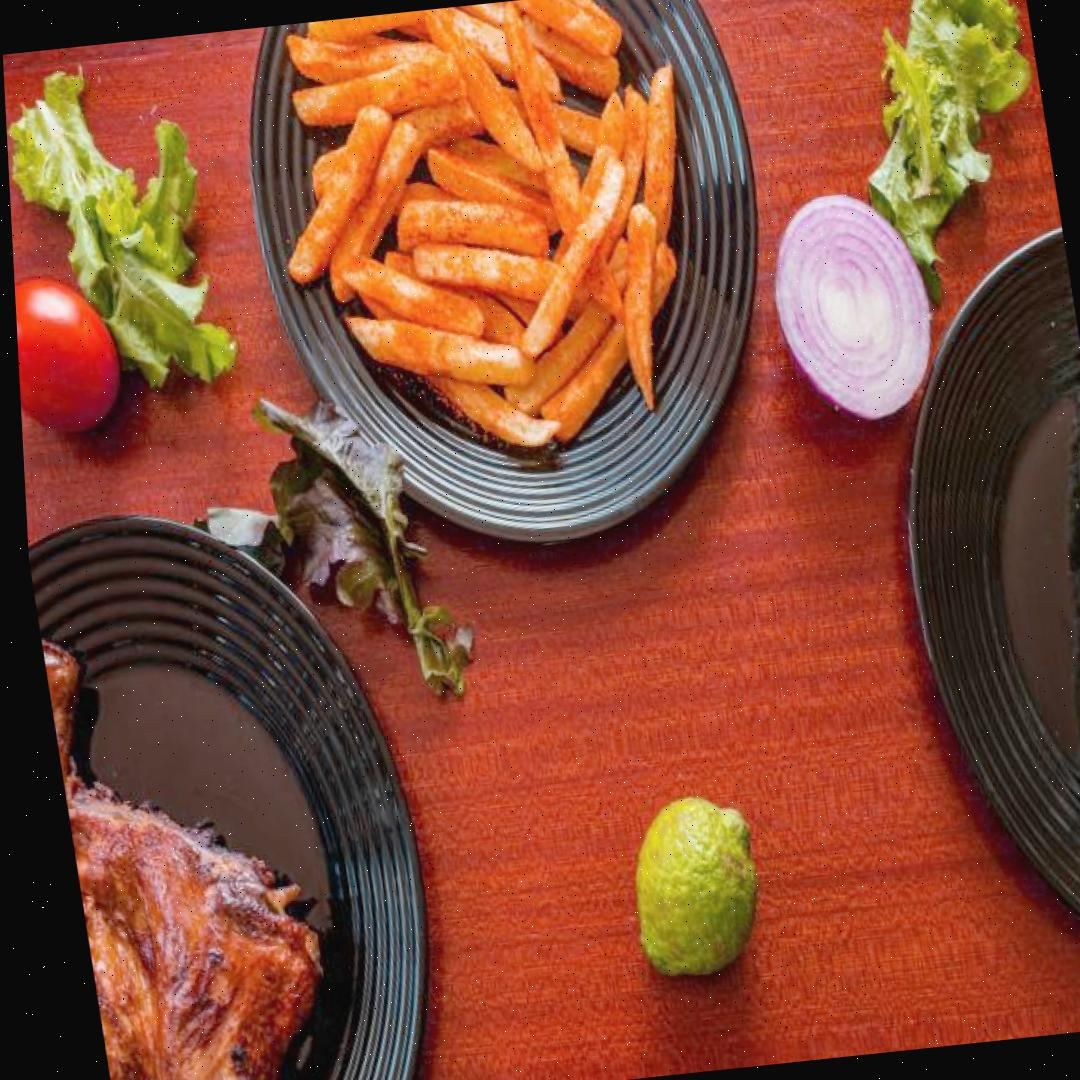matang: (14, 269, 129, 438)
